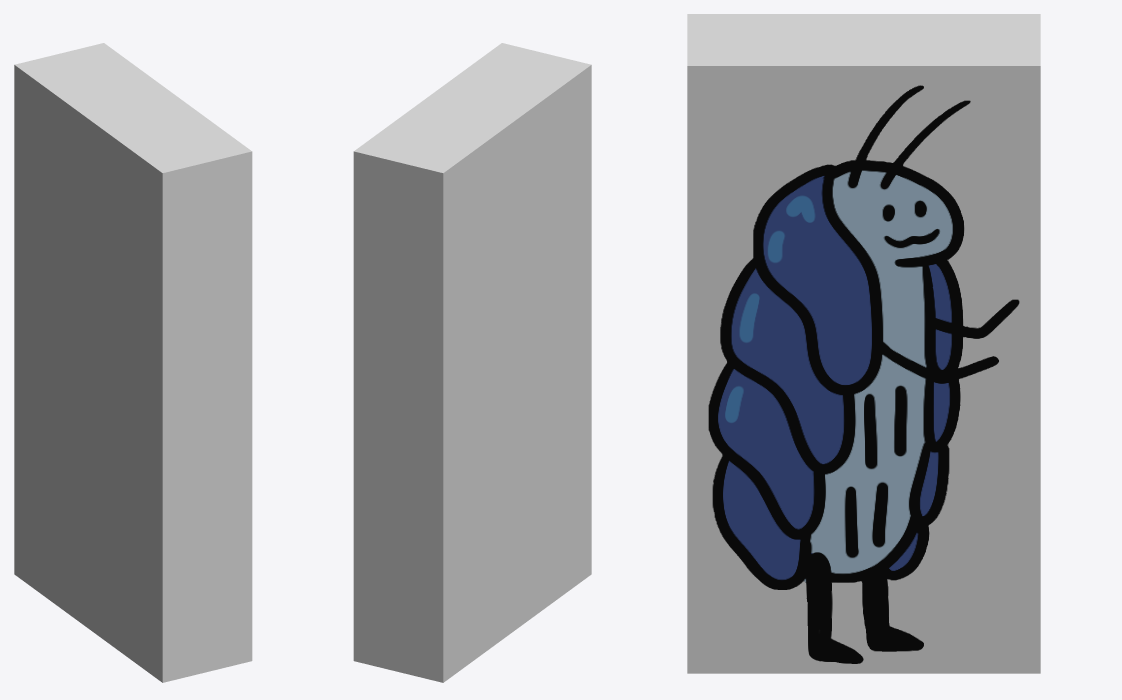
Rendered from characterBeta.fbx.
3 renders of one model, left to right at view 1: azimuth 30°, elevation 25°; view 2: azimuth 150°, elevation 25°; view 3: azimuth 270°, elevation 25°, orthographic. The views are drawn at different scales.
Visible parts, largest first — view 1: Cube; view 2: Cube; view 3: Cube, Larry_Bi_NOBCG_00.
Boxes of the visible parts, box(x1,y1,x2,y2) form: Cube: box(14, 43, 252, 682); Cube: box(353, 43, 591, 682); Cube: box(687, 14, 1040, 673); Larry_Bi_NOBCG_00: box(708, 85, 1019, 663).
Bounding box in the file's own units: 40.16 × 205 × 146.
